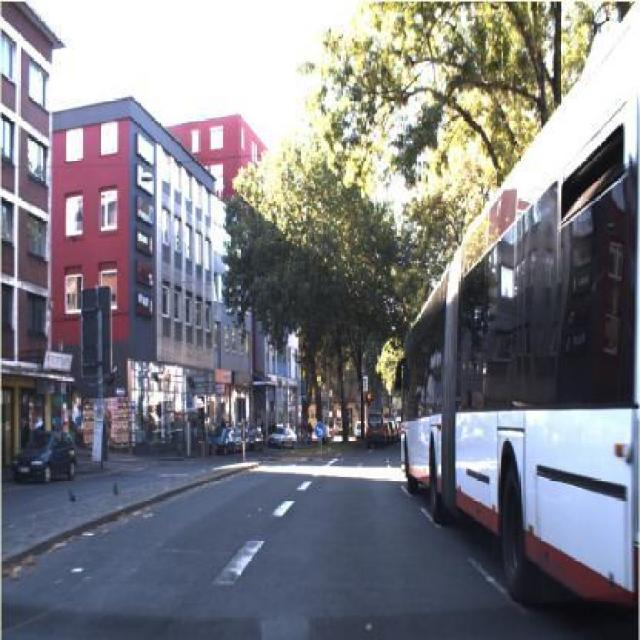traffic_sign: (314, 420, 326, 442), (117, 393, 125, 405)
